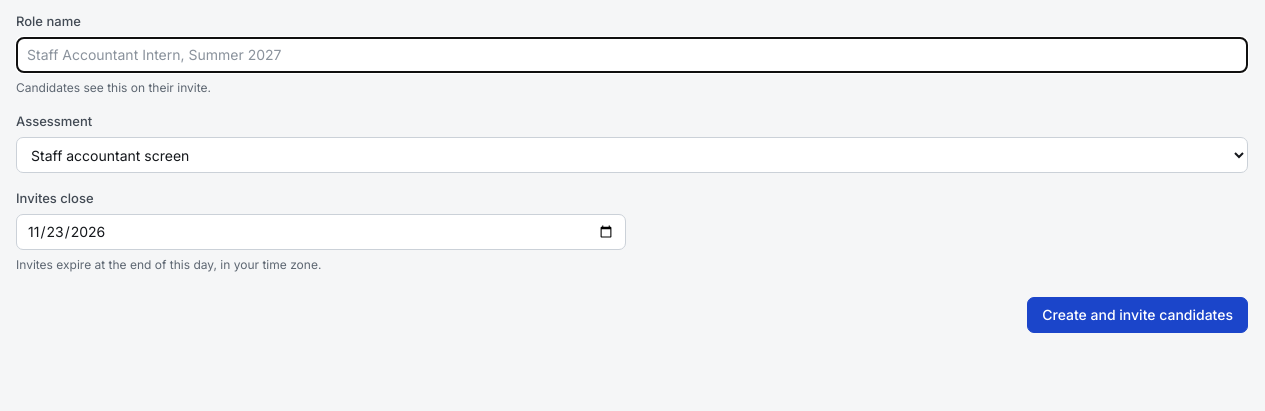
Test: CreateJobForm › shows a form-level error
In the field labelled "Role name": coordinates (632, 55) [16, 37, 1248, 73], type "x"
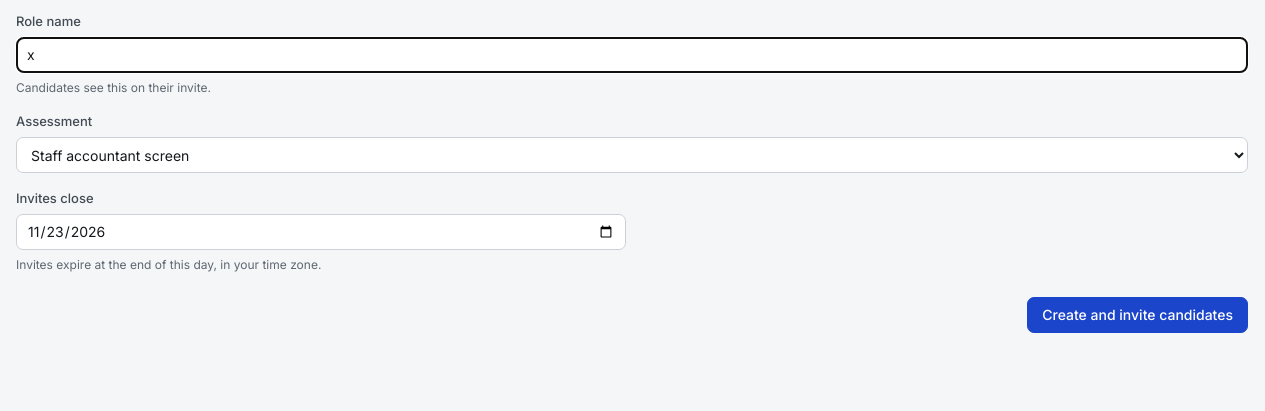
Click the button "Create and invite candidates": coordinates (1138, 315) [1027, 297, 1248, 333]
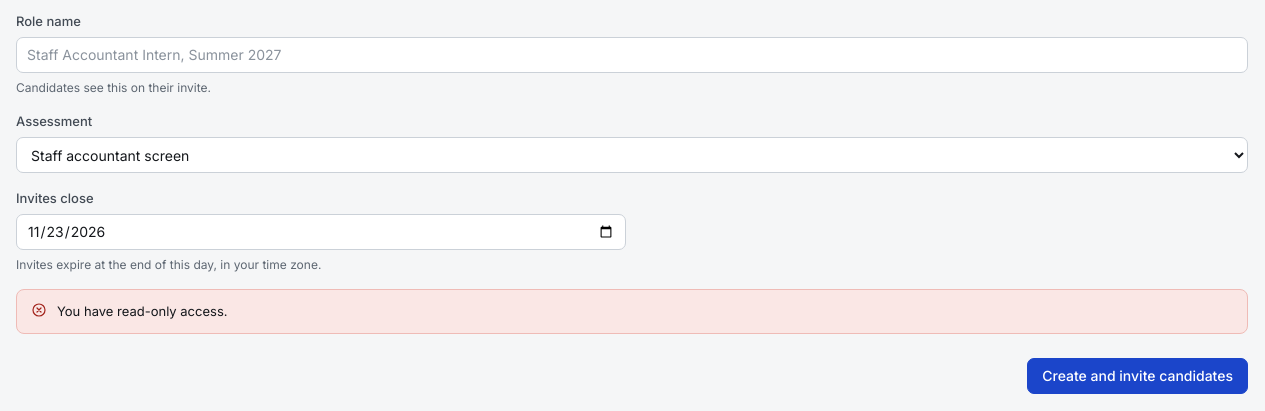
Expected: the text "You have read-only access." is shown, [57, 302, 228, 321]
